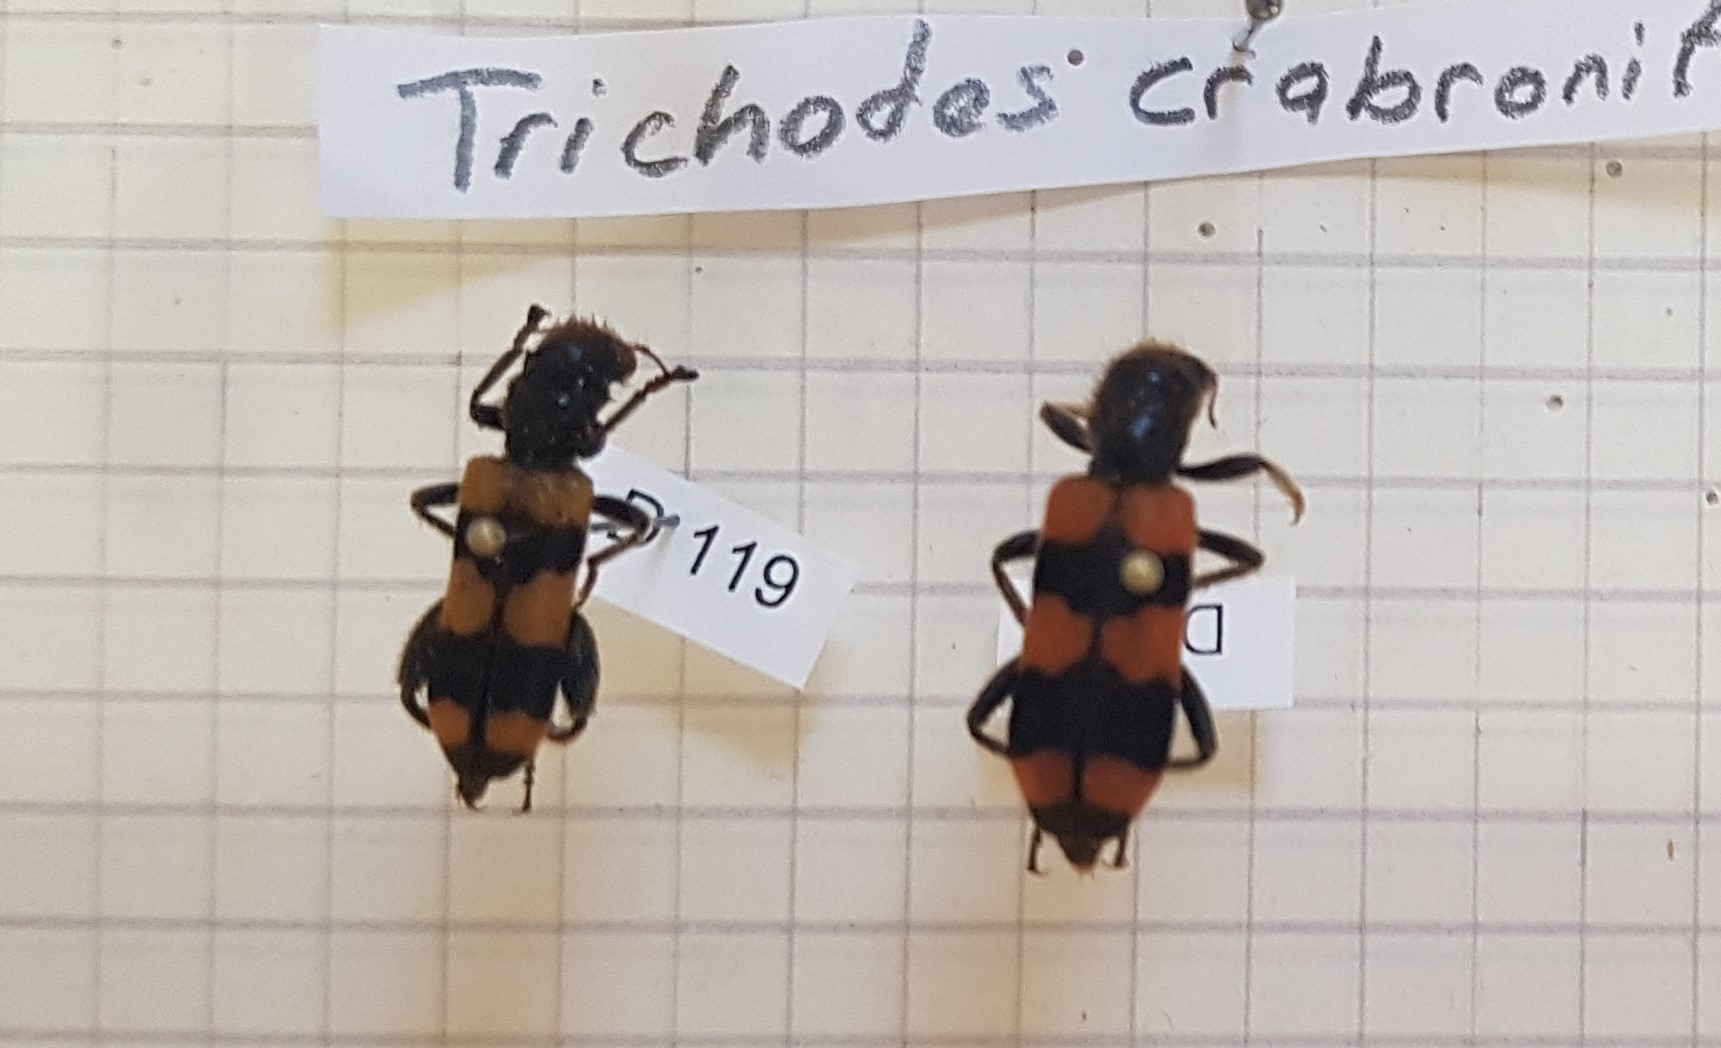trichodes_crabroniformis: (958, 312, 1314, 901), (382, 287, 672, 832)
